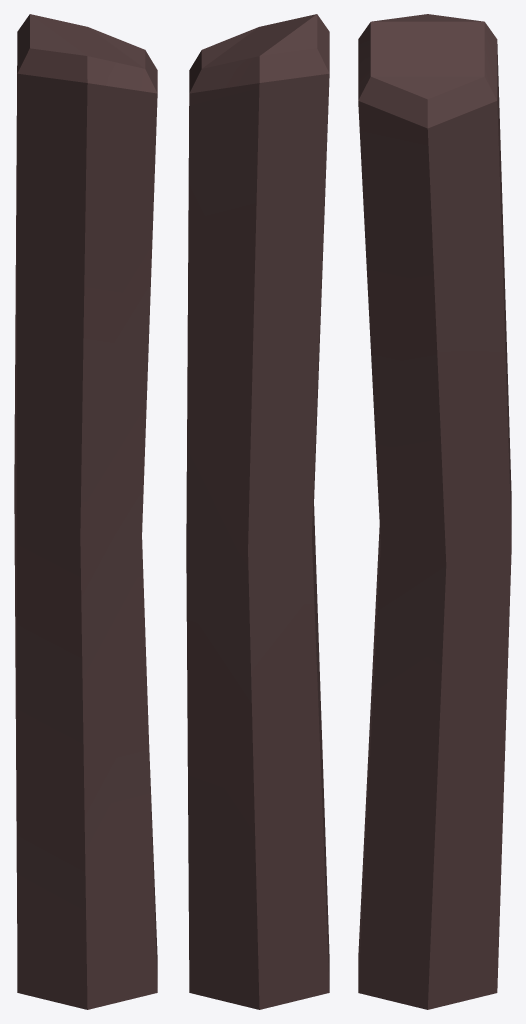
The model's file is wood_6.FBX.
3 renders of one model, left to right at view 1: azimuth 30°, elevation 25°; view 2: azimuth 150°, elevation 25°; view 3: azimuth 270°, elevation 25°, orthographic.
Visible parts, largest first — view 1: wood_6; view 2: wood_6; view 3: wood_6.
Boxes of the visible parts, left/top/right/bottom form: wood_6: left=14, top=14, right=157, bottom=1009; wood_6: left=186, top=14, right=329, bottom=1009; wood_6: left=358, top=14, right=511, bottom=1009.
Bounding box in the file's own units: 5.64 × 36.42 × 5.39.
